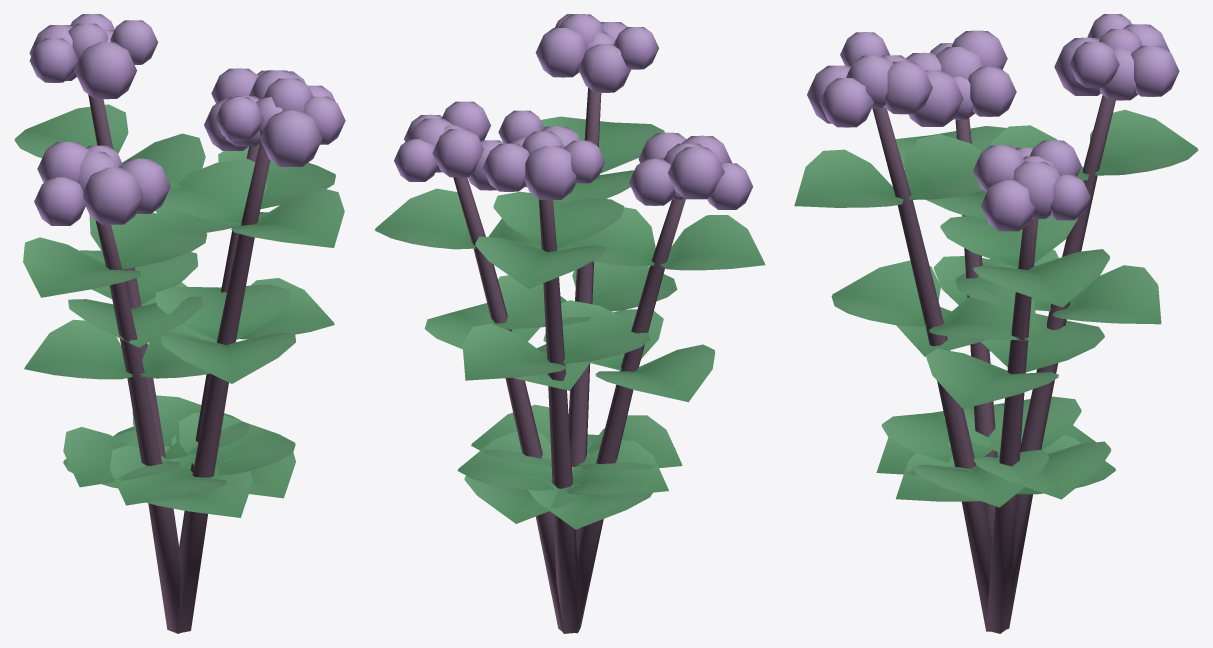
The model's file is ing_water_mint.glb.
3 views of the same model, side by side, from view 1: azimuth 30°, elevation 25°; view 2: azimuth 150°, elevation 25°; view 3: azimuth 270°, elevation 25° (orthographic). The views are drawn at different scales.
Parts seen in each view (by area): view 1: ing_water_mint; view 2: ing_water_mint; view 3: ing_water_mint.
Part boxes in pixels (<box>): ing_water_mint: <box>14,14,345,633</box>; ing_water_mint: <box>374,14,765,633</box>; ing_water_mint: <box>794,14,1198,633</box>.
Size of what is drawn, in the model's own units: 0.1998 by 0.3259 by 0.1998.
